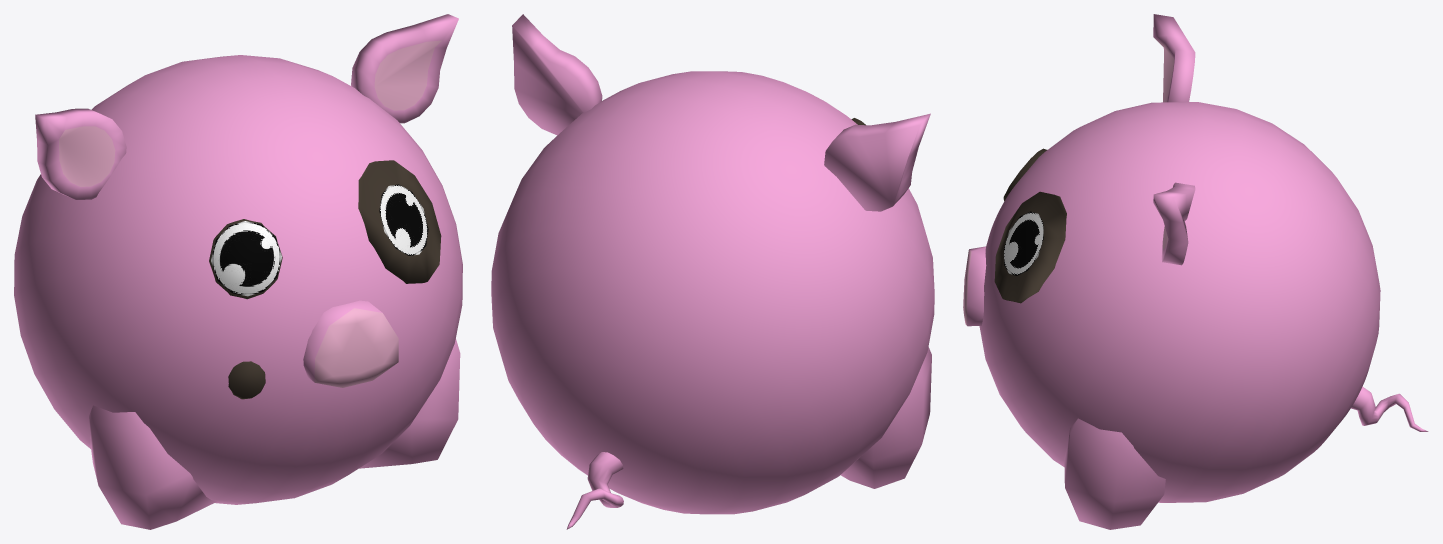
The model's file is pig_sphere_model1.fbx.
The picture shows the model from 3 angles, left to right: view 1: azimuth 30°, elevation 25°; view 2: azimuth 150°, elevation 25°; view 3: azimuth 270°, elevation 25°; orthographic projection. The views are drawn at different scales.
Parts seen in each view (by area): view 1: pig_sphere_test.001; view 2: pig_sphere_test.001; view 3: pig_sphere_test.001.
Boxes of the visible parts, bbox=[...] form: pig_sphere_test.001: bbox=[14, 14, 462, 529]; pig_sphere_test.001: bbox=[491, 14, 934, 529]; pig_sphere_test.001: bbox=[963, 14, 1428, 529].
Size of the model in its own units: 106 by 104 by 115.
